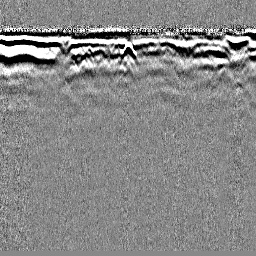cavity: (119, 39, 137, 60)
